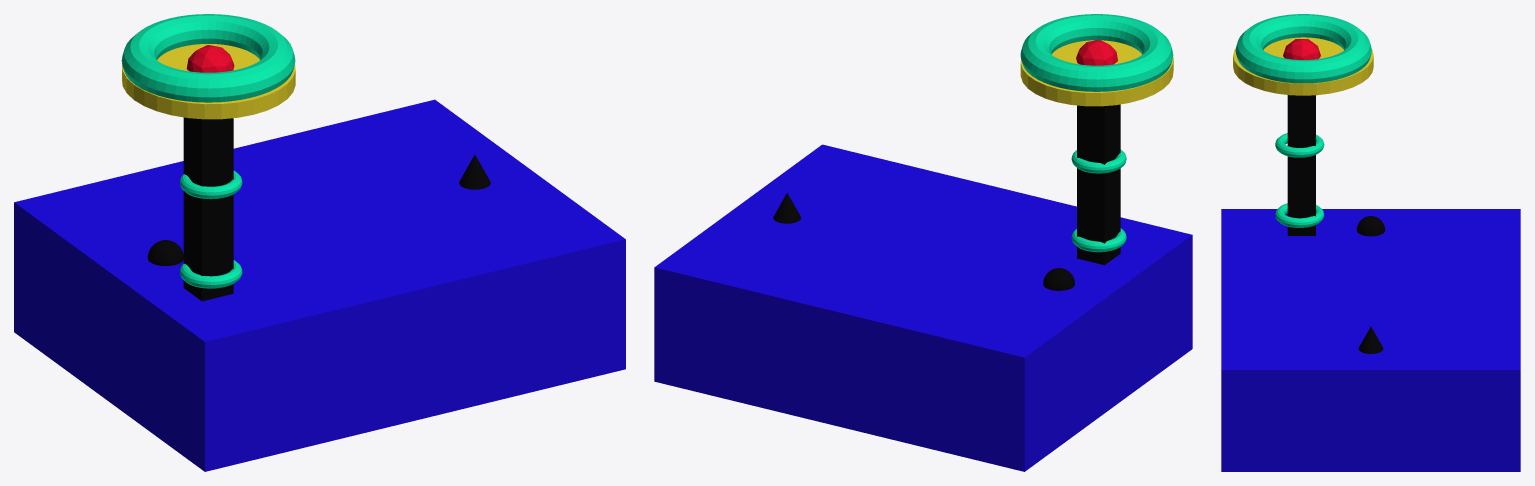
The model's file is bluevision.glb.
3 views of the same model, side by side, from view 1: azimuth 30°, elevation 25°; view 2: azimuth 150°, elevation 25°; view 3: azimuth 270°, elevation 25° (orthographic). The views are drawn at different scales.
Parts seen in each view (by area): view 1: Cube, Torus.003, Cube.001, Cylinder, Icosphere, Torus.001, Torus.002, Sphere, Cone; view 2: Cube, Torus.003, Cube.001, Cylinder, Icosphere, Torus.002, Torus.001, Sphere; view 3: Cube, Torus.003, Cube.001, Cylinder, Icosphere, Torus.001, Torus.002, Sphere, Cone.
Part boxes in pixels (x1,y1,x2,y2): Cube: (14,99,625,471); Torus.003: (121,14,295,102); Cube.001: (183,117,233,301); Cylinder: (122,44,295,119); Icosphere: (186,45,234,72); Torus.001: (180,170,242,199); Torus.002: (180,260,242,288); Sphere: (147,240,183,265); Cone: (459,154,490,189); Cube: (654,144,1192,471); Torus.003: (1020,14,1173,91); Cube.001: (1077,104,1120,265); Cylinder: (1020,40,1173,106); Icosphere: (1076,39,1117,65); Torus.002: (1071,228,1126,252); Torus.001: (1071,149,1126,173); Sphere: (1043,268,1074,290); Cube: (1221,209,1520,471); Torus.003: (1235,14,1371,83); Cube.001: (1287,95,1315,235); Cylinder: (1233,37,1373,95); Icosphere: (1283,39,1320,59); Torus.001: (1275,133,1324,157); Torus.002: (1275,203,1324,227); Sphere: (1356,216,1385,236); Cone: (1358,326,1383,353).
Size of the model in its own units: 20.29 by 16.52 by 15.24.
